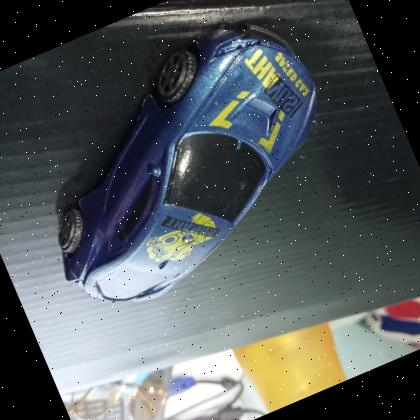Car: (0, 0, 374, 333)
